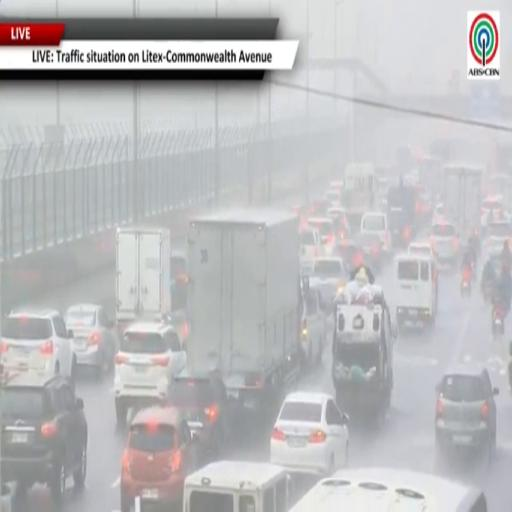car: (0, 371, 87, 504), (290, 468, 488, 511), (120, 407, 197, 511), (114, 323, 186, 425), (270, 392, 348, 475), (435, 363, 498, 460), (0, 309, 76, 382), (168, 371, 231, 458), (183, 461, 292, 511), (65, 303, 117, 377), (395, 254, 438, 328), (301, 288, 327, 366), (309, 258, 348, 303), (430, 221, 461, 267), (361, 212, 392, 254), (170, 250, 188, 311), (308, 217, 336, 255), (300, 229, 324, 273), (357, 232, 384, 270), (164, 309, 188, 350), (484, 220, 511, 253), (334, 240, 365, 268), (327, 207, 351, 241), (481, 196, 503, 227), (408, 243, 436, 261), (308, 198, 331, 217), (325, 188, 342, 206), (433, 203, 445, 225)
motorcycle: (492, 303, 505, 340), (461, 268, 472, 296), (481, 281, 492, 303)
truck: (188, 208, 301, 414), (333, 282, 397, 424), (116, 228, 171, 331), (443, 165, 483, 245), (342, 164, 378, 232), (387, 180, 417, 248)
